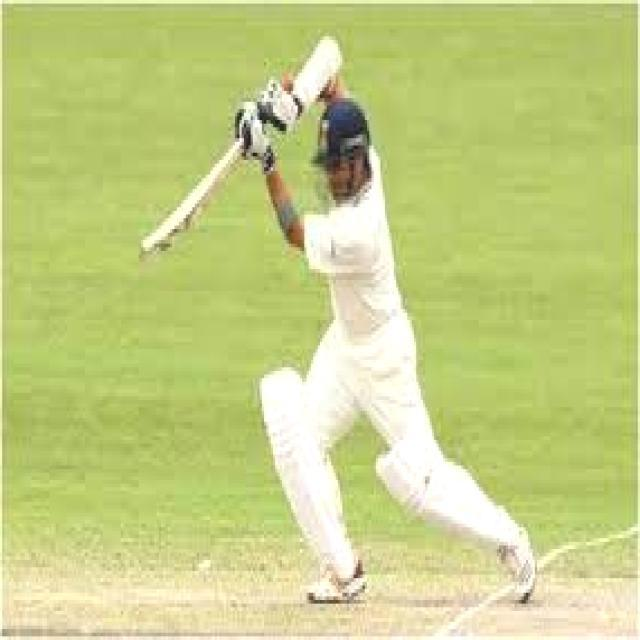bat: (136, 135, 256, 263)
toe: (136, 241, 159, 261)
